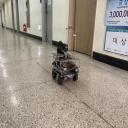cart: (52, 53, 80, 85)
